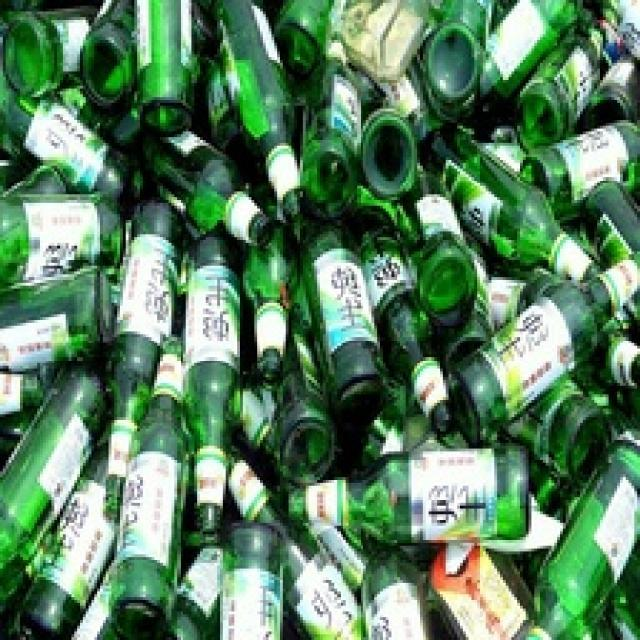Glass: (449, 255, 640, 444), (418, 124, 598, 282), (339, 204, 456, 435), (286, 444, 534, 546), (507, 448, 640, 638), (110, 333, 194, 628), (230, 460, 366, 640), (0, 360, 106, 586), (208, 5, 316, 226), (106, 200, 176, 523), (0, 83, 137, 203), (184, 237, 238, 538), (140, 131, 276, 248), (510, 0, 604, 152), (308, 235, 384, 422), (521, 120, 640, 227), (299, 32, 362, 204), (243, 222, 303, 378)
